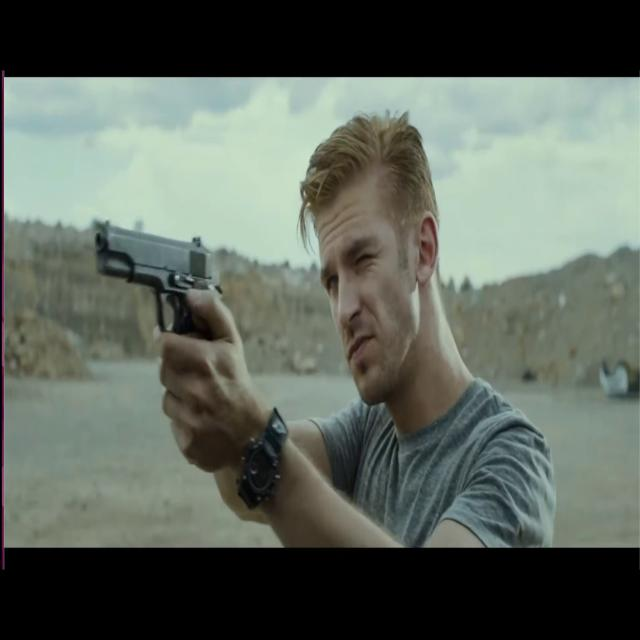weapons: (88, 203, 228, 376)
